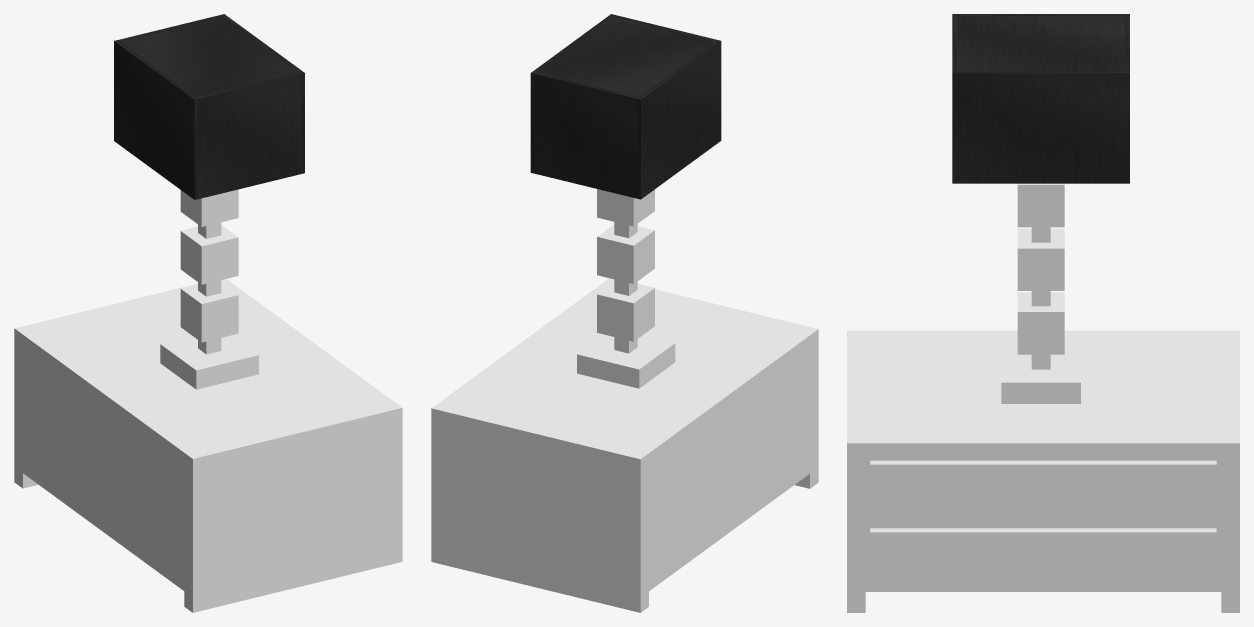
File: bedside.obj
The picture shows the model from 3 angles, left to right: view 1: azimuth 30°, elevation 25°; view 2: azimuth 150°, elevation 25°; view 3: azimuth 270°, elevation 25°; orthographic projection. The views are drawn at different scales.
Parts seen in each view (by area): view 1: cube.014, cube.018, cube.008, cube.010, cube.011, cube, cube.013, cube.003, cube.000, cube.007, cube.015, cube.012; view 2: cube.014, cube.013, cube.009, cube.010, cube.011, cube, cube.018, cube.000, cube.003, cube.007, cube.015, cube.012; view 3: cube.014, cube.016, cube.017, cube.012, cube.011, cube.015, cube.013, cube.018, cube, cube.000, cube.003, cube.007.
Boxes of the visible parts, bbox=[...] form: cube.014: bbox=[23, 286, 386, 590]; cube.018: bbox=[184, 401, 402, 612]; cube.008: bbox=[196, 72, 301, 198]; cube.010: bbox=[114, 40, 198, 199]; cube.011: bbox=[120, 16, 298, 97]; cube: bbox=[160, 335, 258, 389]; cube.013: bbox=[14, 279, 232, 488]; cube.003: bbox=[180, 225, 238, 284]; cube.000: bbox=[180, 283, 238, 342]; cube.007: bbox=[180, 189, 238, 226]; cube.015: bbox=[225, 283, 393, 403]; cube.012: bbox=[221, 14, 304, 173]; cube.014: bbox=[447, 287, 809, 590]; cube.013: bbox=[431, 402, 648, 612]; cube.009: bbox=[534, 72, 638, 198]; cube.010: bbox=[637, 40, 721, 199]; cube.011: bbox=[537, 16, 715, 97]; cube: bbox=[577, 334, 675, 388]; cube.018: bbox=[601, 278, 818, 488]; cube.000: bbox=[597, 282, 654, 341]; cube.003: bbox=[597, 224, 654, 283]; cube.007: bbox=[597, 189, 654, 226]; cube.015: bbox=[440, 284, 607, 403]; cube.012: bbox=[530, 14, 614, 173]; cube.014: bbox=[865, 330, 1221, 591]; cube.016: bbox=[870, 460, 1216, 523]; cube.017: bbox=[870, 528, 1216, 591]; cube.012: bbox=[952, 71, 1129, 183]; cube.011: bbox=[957, 16, 1125, 71]; cube.015: bbox=[865, 439, 1221, 460]; cube.013: bbox=[1221, 330, 1239, 612]; cube.018: bbox=[847, 330, 865, 612]; cube: bbox=[1001, 349, 1080, 403]; cube.000: bbox=[1017, 292, 1064, 354]; cube.003: bbox=[1017, 228, 1064, 290]; cube.007: bbox=[1017, 183, 1064, 227].
Bounding box in the file's own units: 0.8906 × 1.89 × 1.31.
